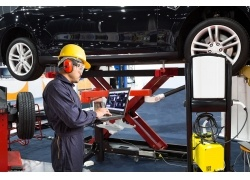yellow: (56, 44, 87, 84)
